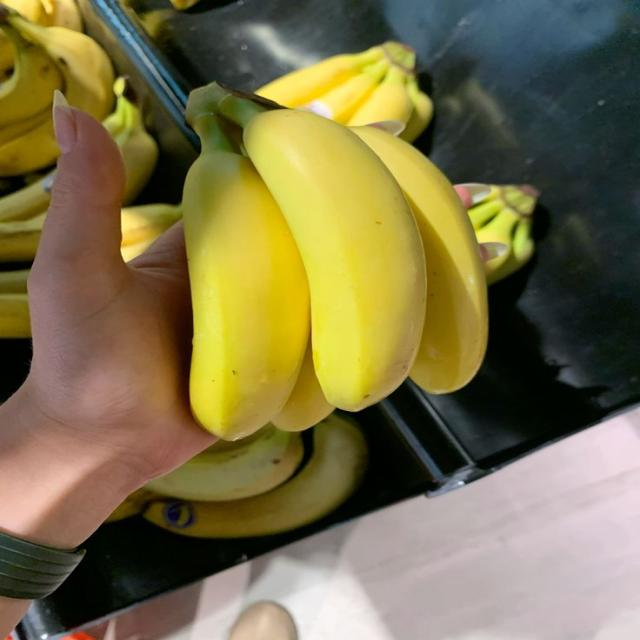unpeal banana: (220, 97, 426, 411), (183, 87, 309, 439), (354, 127, 487, 393), (144, 415, 367, 538), (257, 42, 433, 141), (147, 425, 304, 501), (5, 10, 113, 119), (8, 13, 114, 120), (256, 47, 384, 107), (0, 10, 63, 129), (468, 185, 539, 284), (103, 78, 158, 204), (103, 80, 157, 205), (303, 59, 389, 123), (273, 341, 334, 431), (348, 65, 413, 125), (487, 217, 534, 284), (121, 204, 180, 249), (121, 204, 181, 247), (0, 173, 51, 223), (400, 76, 433, 142), (0, 214, 45, 262), (106, 488, 159, 523), (0, 293, 30, 337), (40, 0, 82, 31), (3, 0, 47, 24), (0, 269, 29, 293)
